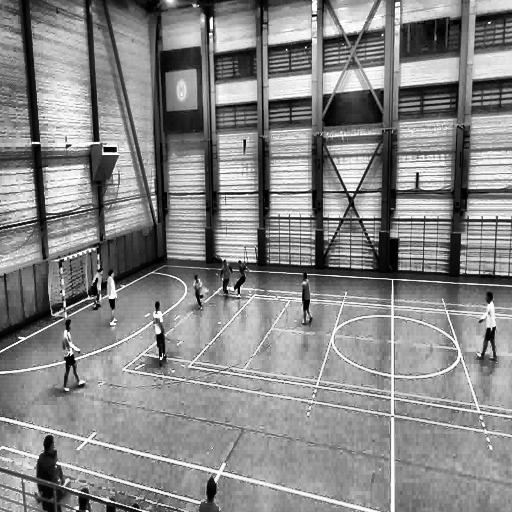ball: (225, 284, 230, 294)
player: (63, 318, 86, 390), (476, 290, 497, 363), (154, 300, 168, 364), (300, 270, 314, 326), (106, 270, 118, 326), (233, 254, 248, 297), (92, 268, 102, 310), (221, 259, 231, 298), (194, 274, 204, 310)
